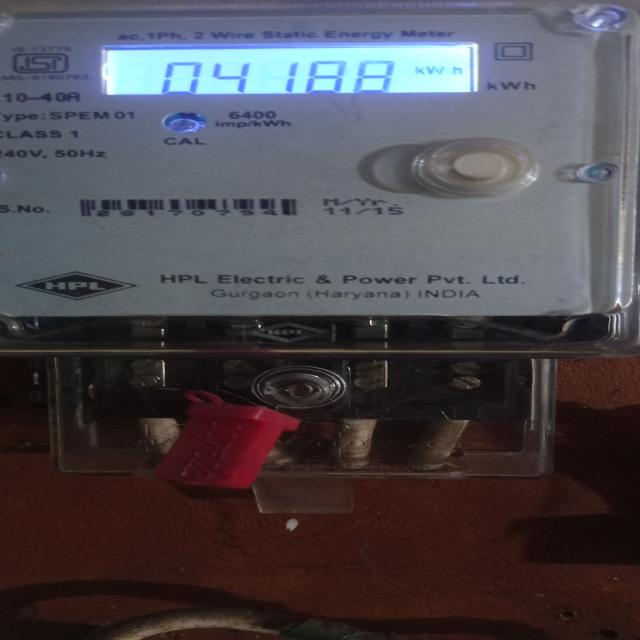display: (91, 42, 486, 101)
